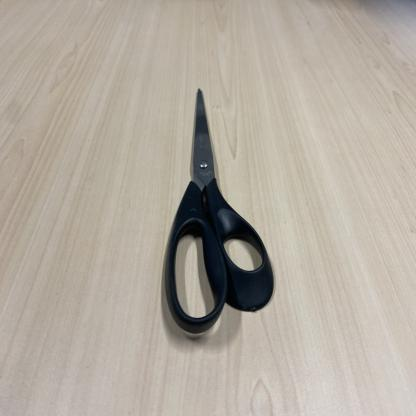scissors: (163, 88, 276, 337)
